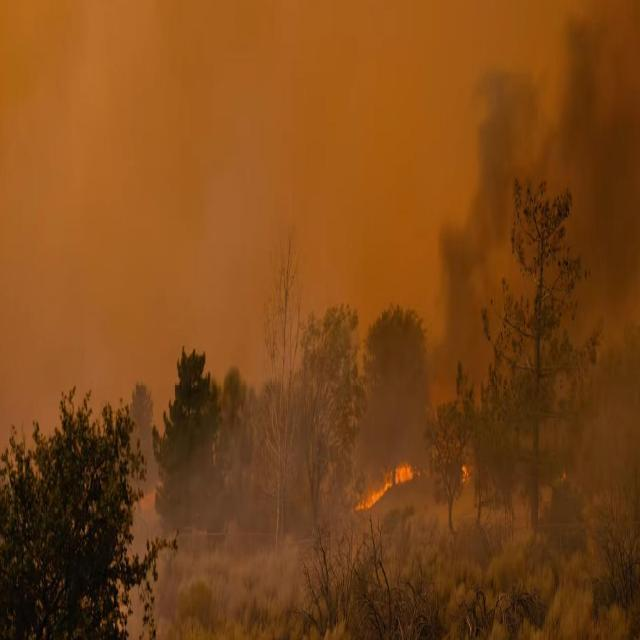Fire: (355, 477, 386, 521), (393, 456, 411, 484)
